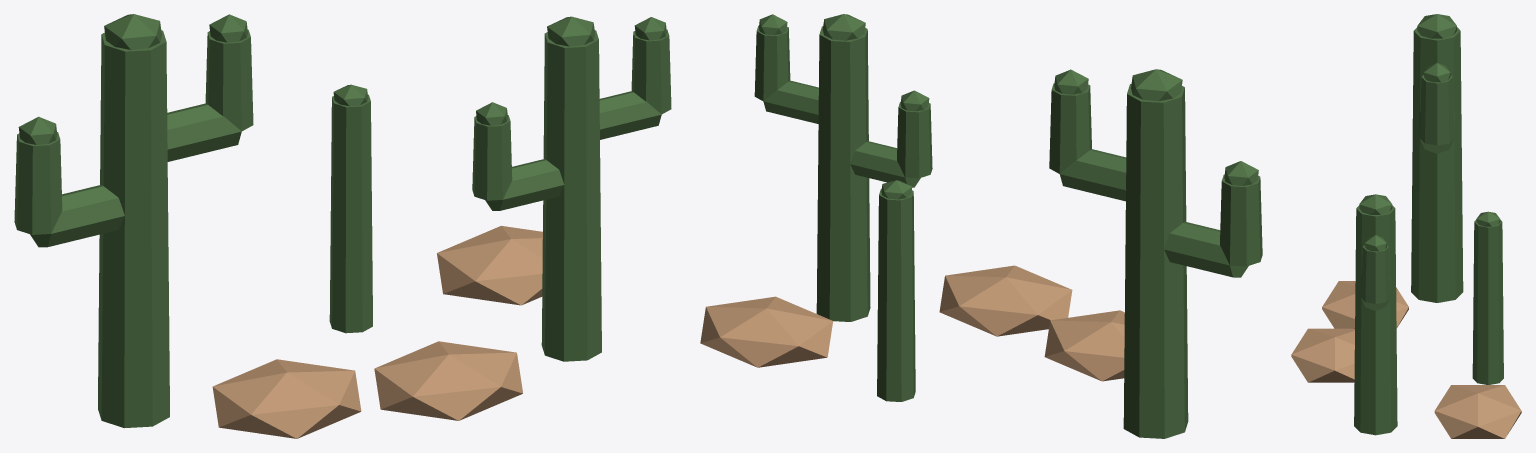
Rendered from Desert_CactusGarden_Simple.glb.
3 renders of one model, left to right at view 1: azimuth 30°, elevation 25°; view 2: azimuth 150°, elevation 25°; view 3: azimuth 270°, elevation 25°, orthographic. The views are drawn at different scales.
Visible parts, largest first — view 1: Desert_CactusGarden_Simple; view 2: Desert_CactusGarden_Simple; view 3: Desert_CactusGarden_Simple.
Part boxes in pixels (bbox=[...]): Desert_CactusGarden_Simple: bbox=[14, 14, 671, 438]; Desert_CactusGarden_Simple: bbox=[700, 14, 1262, 438]; Desert_CactusGarden_Simple: bbox=[1291, 14, 1521, 438].
Bounding box in the file's own units: 4.79 × 3 × 2.25.
